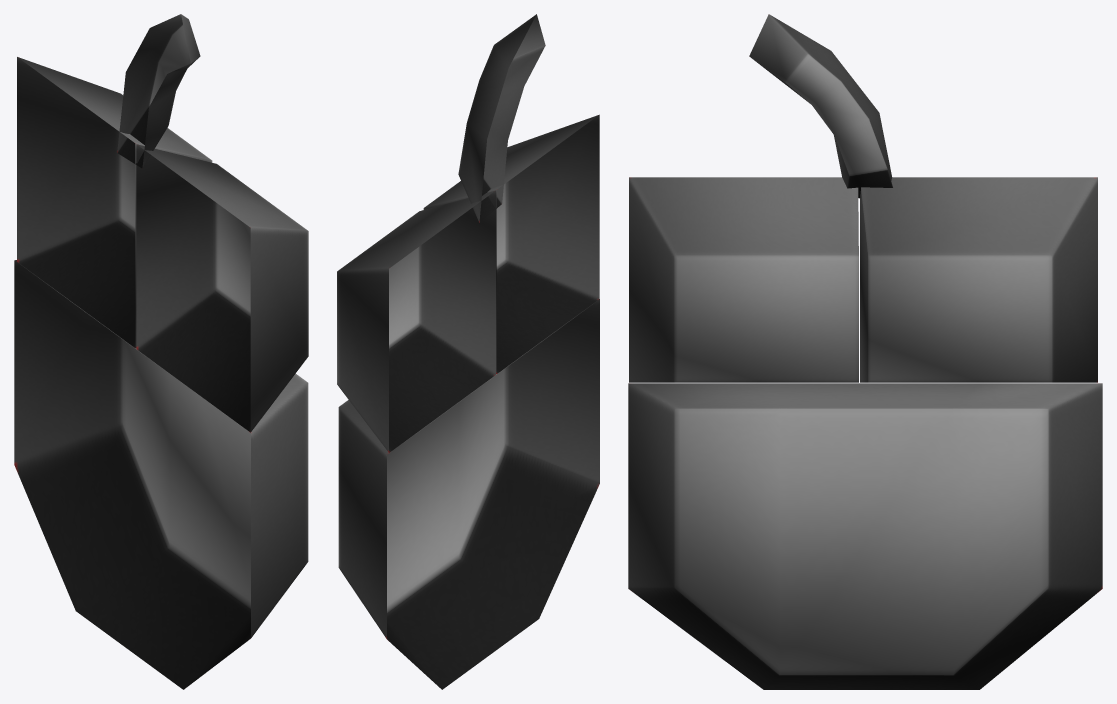
The model's file is mouseFBX.FBX.
The picture shows the model from 3 angles, left to right: view 1: azimuth 30°, elevation 25°; view 2: azimuth 150°, elevation 25°; view 3: azimuth 270°, elevation 25°; orthographic projection. The views are drawn at different scales.
Parts seen in each view (by area): view 1: Box002; view 2: Box002; view 3: Box002.
Boxes of the visible parts, left/top/right/bottom form: Box002: left=14, top=14, right=308, bottom=689; Box002: left=337, top=14, right=599, bottom=689; Box002: left=628, top=14, right=1102, bottom=689.
Size of the model in its own units: 10.66 by 54.04 by 84.92.
